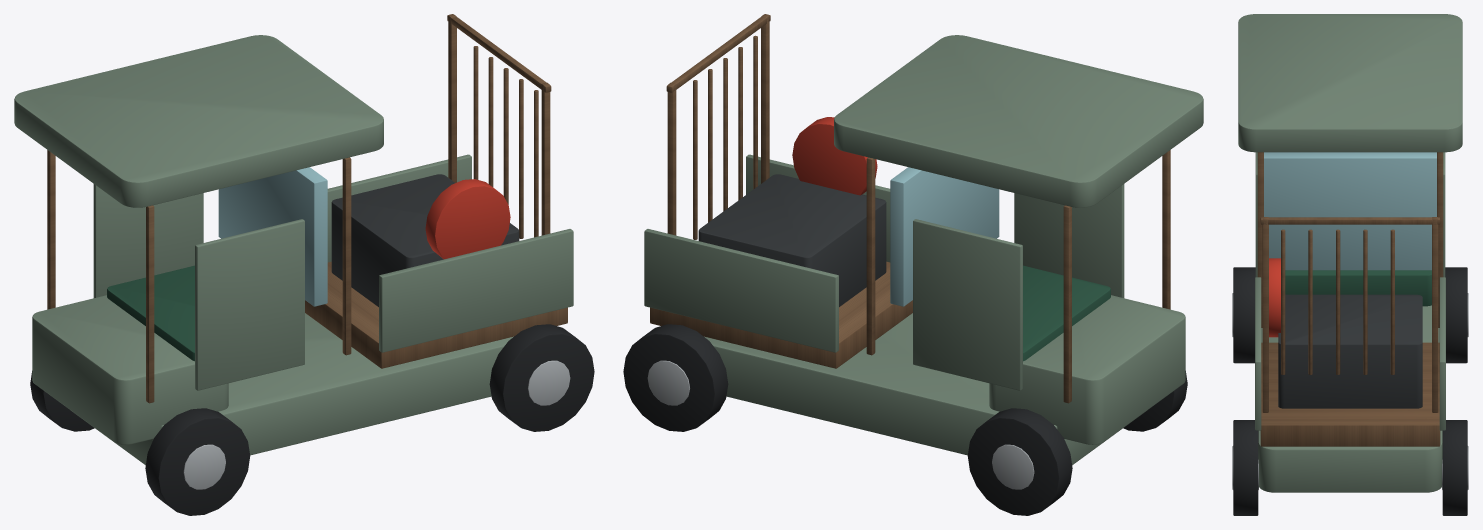
File: maintenance_cart_high_end.glb
The picture shows the model from 3 angles, left to right: view 1: azimuth 30°, elevation 25°; view 2: azimuth 150°, elevation 25°; view 3: azimuth 270°, elevation 25°; orthographic projection. The views are drawn at different scales.
Visible parts, largest first — view 1: Canopy_Roof, ServiceCart_Chassis, ServiceCart_Hood, ServiceCart_CabDoor_L, ServiceCart_BedSide_L, ServiceCart_Toolbox, ServiceCart_CabDoor_R, ServiceCart_Windshield, ServiceWheel_Front_L_Tire, ServiceWheel_Rear_L_Tire, ServiceCart_BedFloor, Maintenance_HoseReel (+16 smaller); view 2: Canopy_Roof, ServiceCart_Chassis, ServiceCart_Hood, ServiceCart_CabDoor_R, ServiceCart_BedSide_R, ServiceCart_Toolbox, ServiceCart_CabDoor_L, ServiceCart_Windshield, ServiceWheel_Front_R_Tire, ServiceWheel_Rear_R_Tire, ServiceCart_BedFloor, ServiceCart_Seat (+16 smaller); view 3: Canopy_Roof, ServiceCart_Windshield, ServiceCart_Toolbox, ServiceCart_Chassis, ServiceCart_BedFloor, ServiceCart_Seat, ServiceWheel_Rear_L_Tire, ServiceWheel_Rear_R_Tire, ServiceWheel_Front_L_Tire, ServiceWheel_Front_R_Tire, ServiceCart_SafetyRackTop, ServiceCart_SafetyRackPost_R (+13 smaller).
Boxes of the visible parts, x1,y1,x2,y2 form: Canopy_Roof: [14, 35, 383, 207]; ServiceCart_Chassis: [72, 313, 513, 465]; ServiceCart_Hood: [32, 295, 228, 444]; ServiceCart_CabDoor_L: [195, 219, 304, 390]; ServiceCart_BedSide_L: [379, 229, 573, 352]; ServiceCart_Toolbox: [331, 174, 519, 306]; ServiceCart_CabDoor_R: [93, 184, 203, 297]; ServiceCart_Windshield: [218, 167, 327, 306]; ServiceWheel_Front_L_Tire: [145, 408, 250, 515]; ServiceWheel_Rear_L_Tire: [489, 324, 594, 431]; ServiceCart_BedFloor: [305, 261, 567, 368]; Maintenance_HoseReel: [425, 179, 510, 259]; Canopy_Roof: [834, 35, 1203, 207]; ServiceCart_Chassis: [704, 313, 1145, 465]; ServiceCart_Hood: [989, 295, 1185, 444]; ServiceCart_CabDoor_R: [913, 219, 1022, 390]; ServiceCart_BedSide_R: [644, 229, 838, 352]; ServiceCart_Toolbox: [698, 174, 886, 306]; ServiceCart_CabDoor_L: [1014, 184, 1124, 297]; ServiceCart_Windshield: [890, 167, 999, 306]; ServiceWheel_Front_R_Tire: [967, 408, 1072, 515]; ServiceWheel_Rear_R_Tire: [623, 324, 728, 431]; ServiceCart_BedFloor: [650, 261, 912, 368]; ServiceCart_Seat: [1023, 265, 1110, 361]; Canopy_Roof: [1238, 14, 1462, 152]; ServiceCart_Windshield: [1264, 152, 1436, 270]; ServiceCart_Toolbox: [1278, 294, 1422, 408]; ServiceCart_Chassis: [1258, 305, 1442, 492]; ServiceCart_BedFloor: [1260, 342, 1440, 446]; ServiceCart_Seat: [1285, 270, 1431, 306]; ServiceWheel_Rear_L_Tire: [1233, 420, 1258, 515]; ServiceWheel_Rear_R_Tire: [1442, 420, 1467, 515]; ServiceWheel_Front_L_Tire: [1233, 267, 1255, 363]; ServiceWheel_Front_R_Tire: [1445, 267, 1467, 363]; ServiceCart_SafetyRackTop: [1260, 217, 1440, 224]; ServiceCart_SafetyRackPost_R: [1432, 217, 1438, 412].
Size of what is drawn, in the model's own units: 2.72 by 1.94 by 1.33.
Materials: 9 (1 with a texture image).
